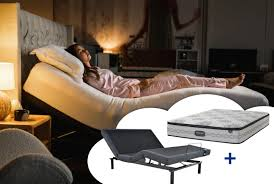bed-matress: (23, 59, 270, 136), (100, 127, 212, 168), (167, 108, 269, 145)
